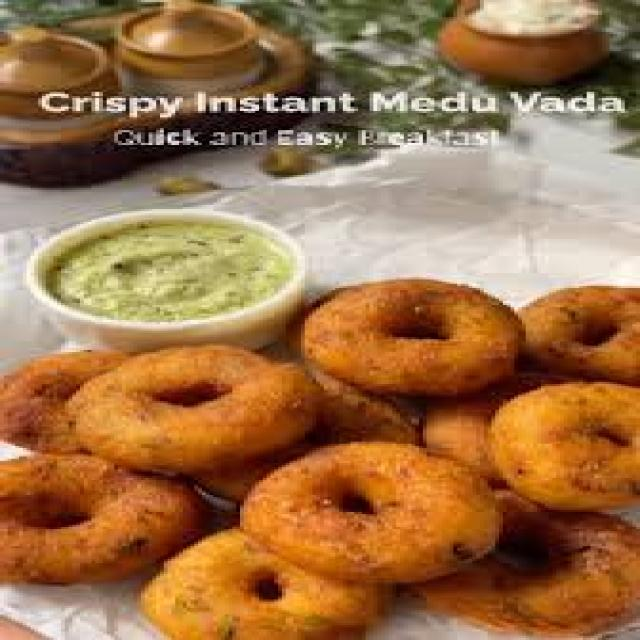MEDU VADA: (238, 446, 500, 584), (67, 345, 315, 479), (423, 491, 633, 638), (142, 528, 393, 638), (1, 456, 203, 588), (198, 384, 422, 497), (304, 281, 517, 399), (491, 383, 636, 509), (424, 377, 584, 483), (0, 349, 134, 454), (516, 286, 636, 384)
